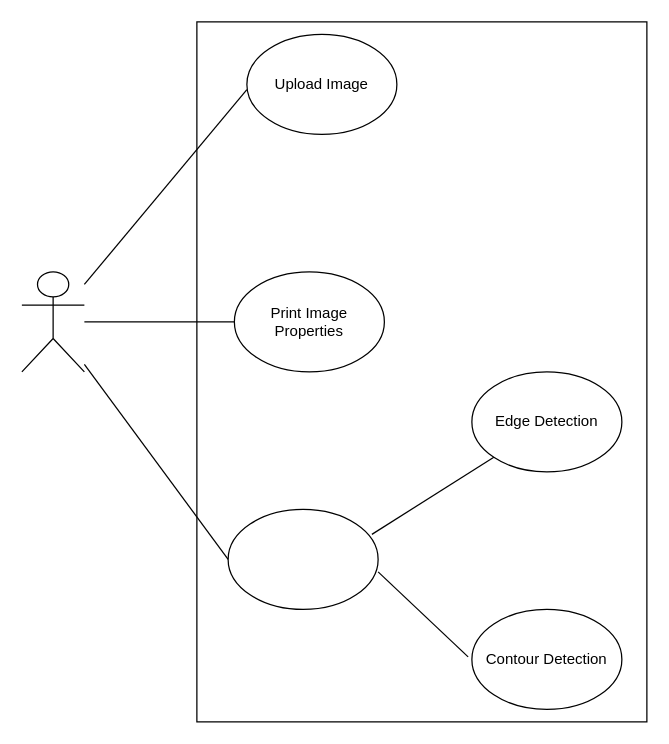
This 669x744 diagram has some shape labels left out. The centre of each missing label's shape, as x and y in pixels:
"Choose Parameters" belongs at [302,558].
"User" belongs at [52,321].
